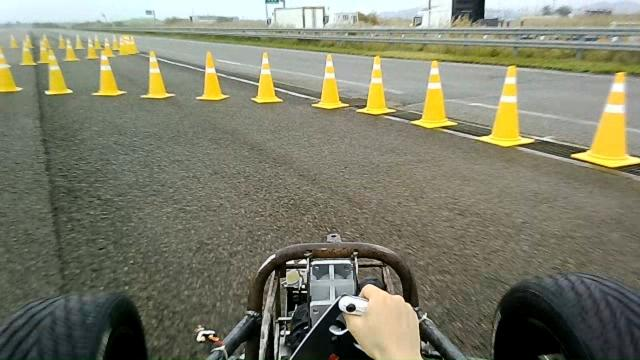yellow cone: (570, 70, 639, 169), (476, 64, 535, 147), (410, 59, 458, 129), (356, 54, 396, 116), (311, 54, 349, 110), (250, 51, 284, 104), (195, 50, 230, 101), (140, 50, 175, 99), (91, 53, 127, 97), (44, 54, 73, 95), (0, 46, 24, 93)
